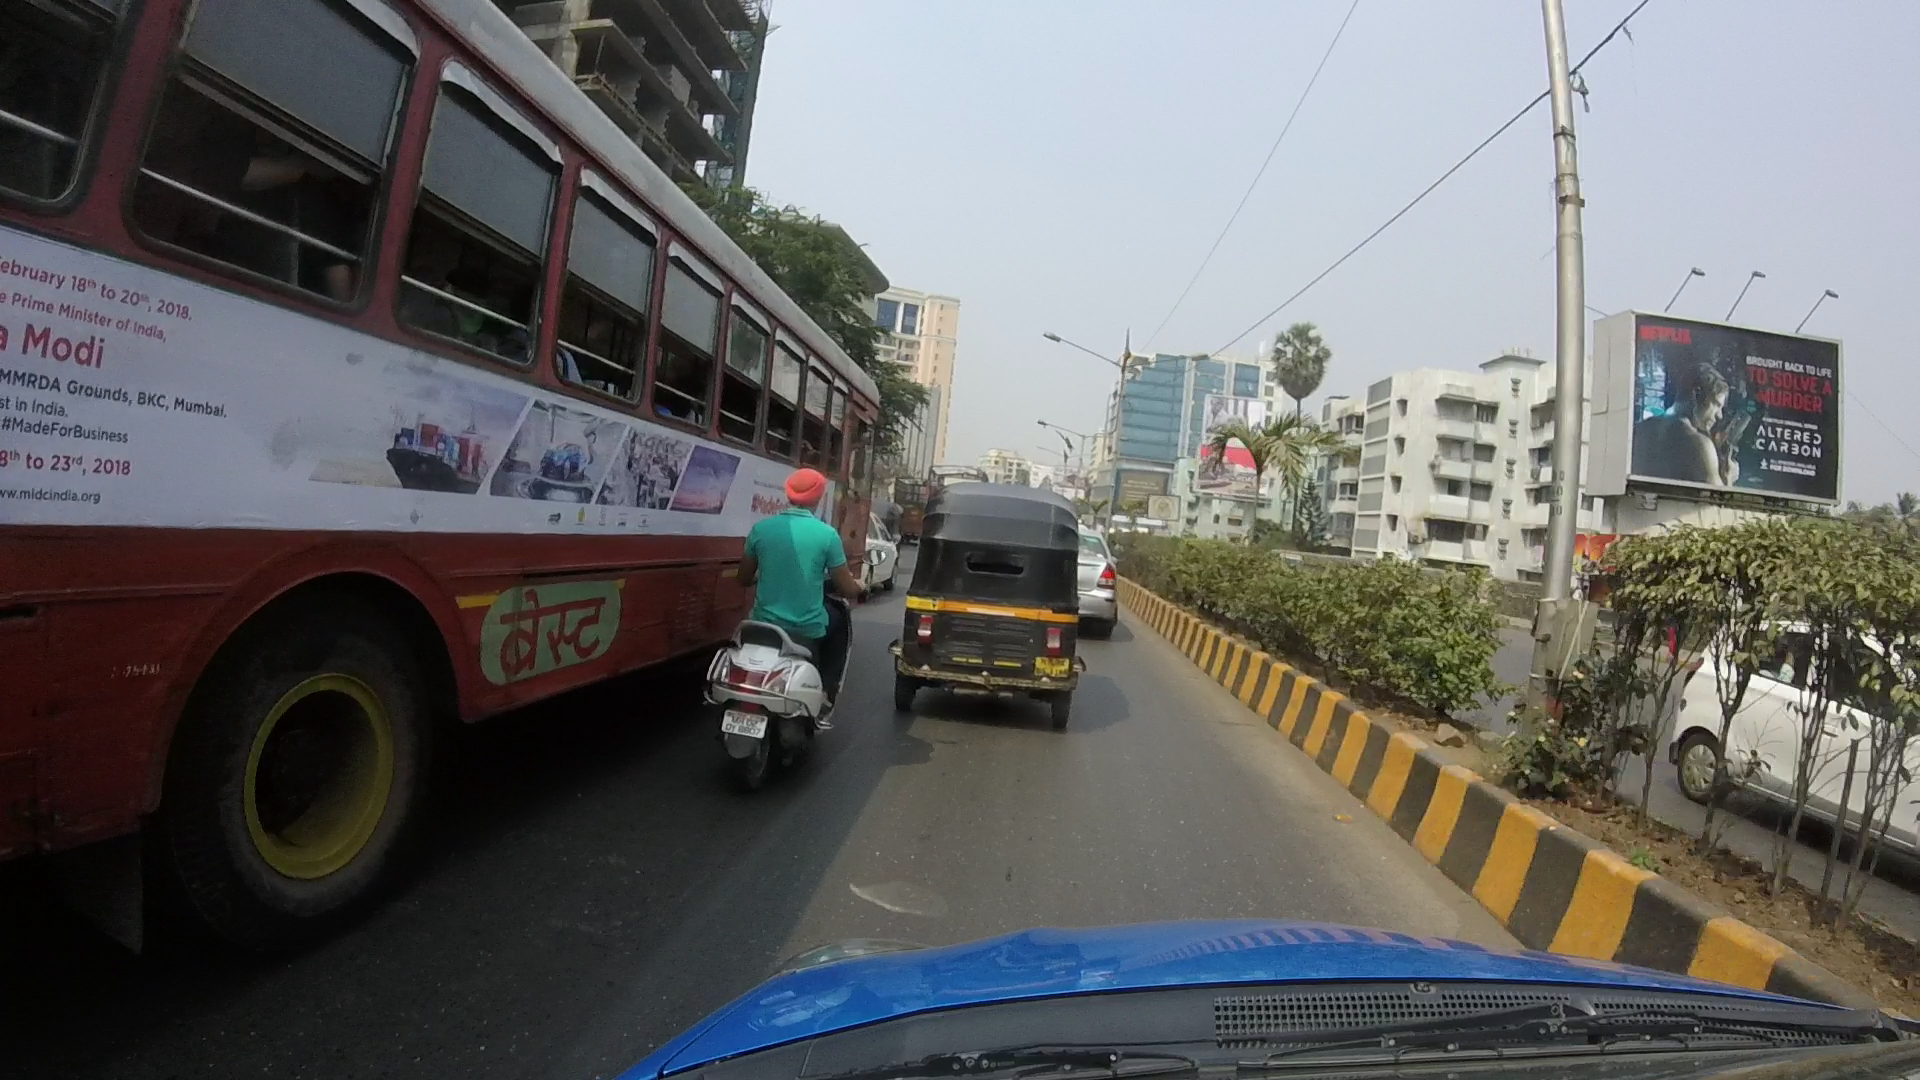bike/scooter: (651, 442, 891, 769)
bus: (12, 7, 872, 916)
car: (1658, 556, 1920, 872), (1054, 510, 1145, 645)
rickshaw: (884, 460, 1104, 800)
